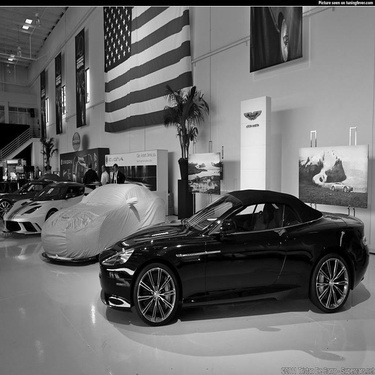car: (87, 186, 370, 328), (42, 180, 174, 273), (1, 171, 97, 239)
